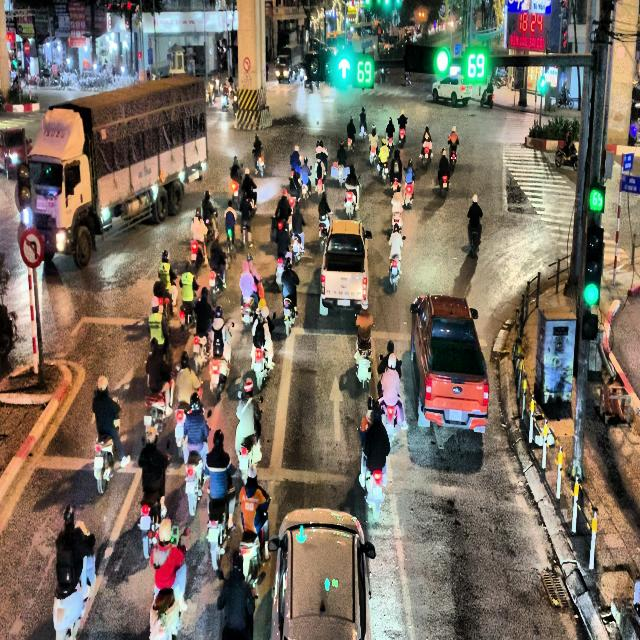lisence_plate: (446, 407, 464, 423), (335, 296, 352, 308)
